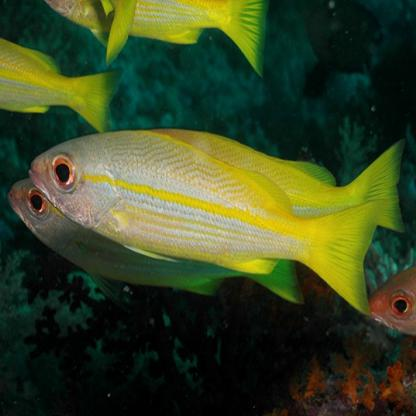Lutjanidae -Snappers-: (32, 131, 388, 320)
